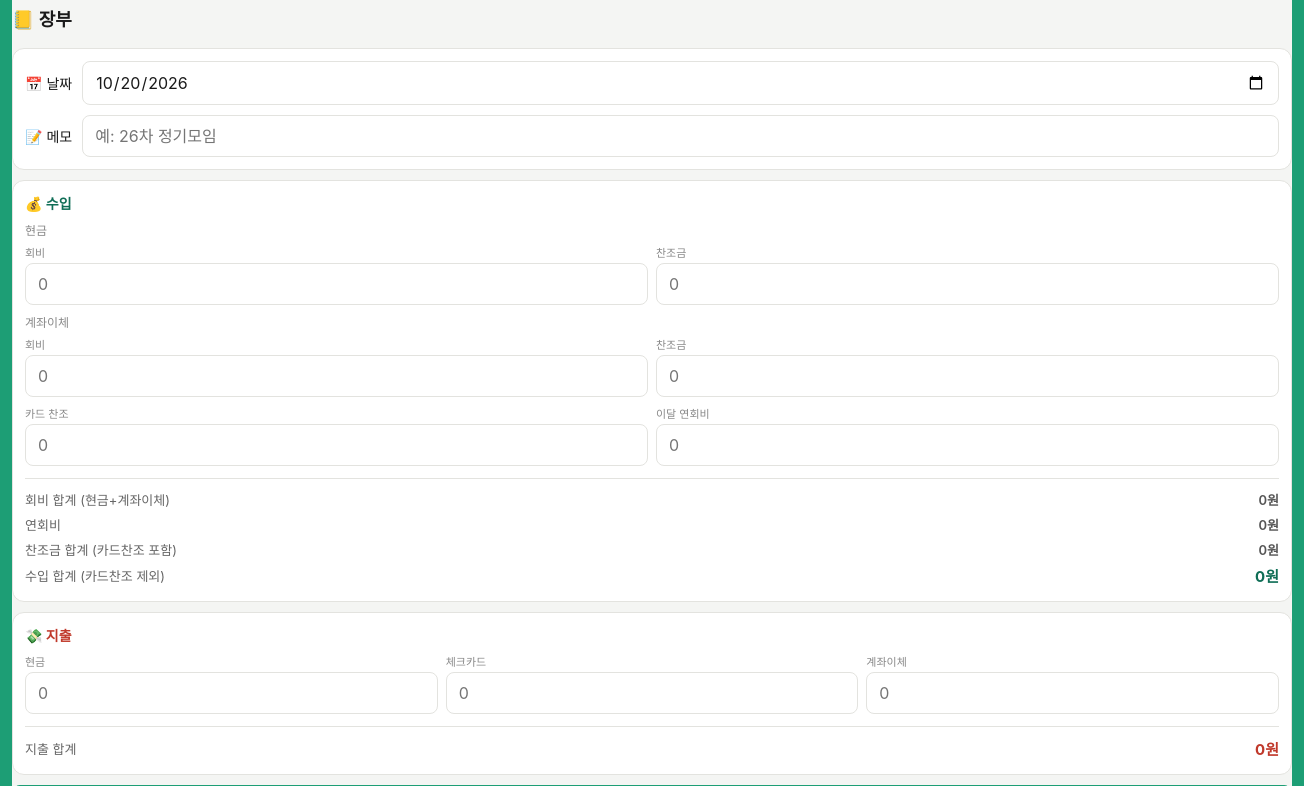
it: LedgerTab — 금액 입력칸 천단위 콤마 표시 › 현금 회비 입력칸에 1234567을 입력하면 1,234,567로 보인다
The width and height of the screenshot is (1304, 786).
Type "1234567" into the field named "회비".
click(336, 284); type("1234567")  # box top-left (25, 263), bottom-right (648, 305)
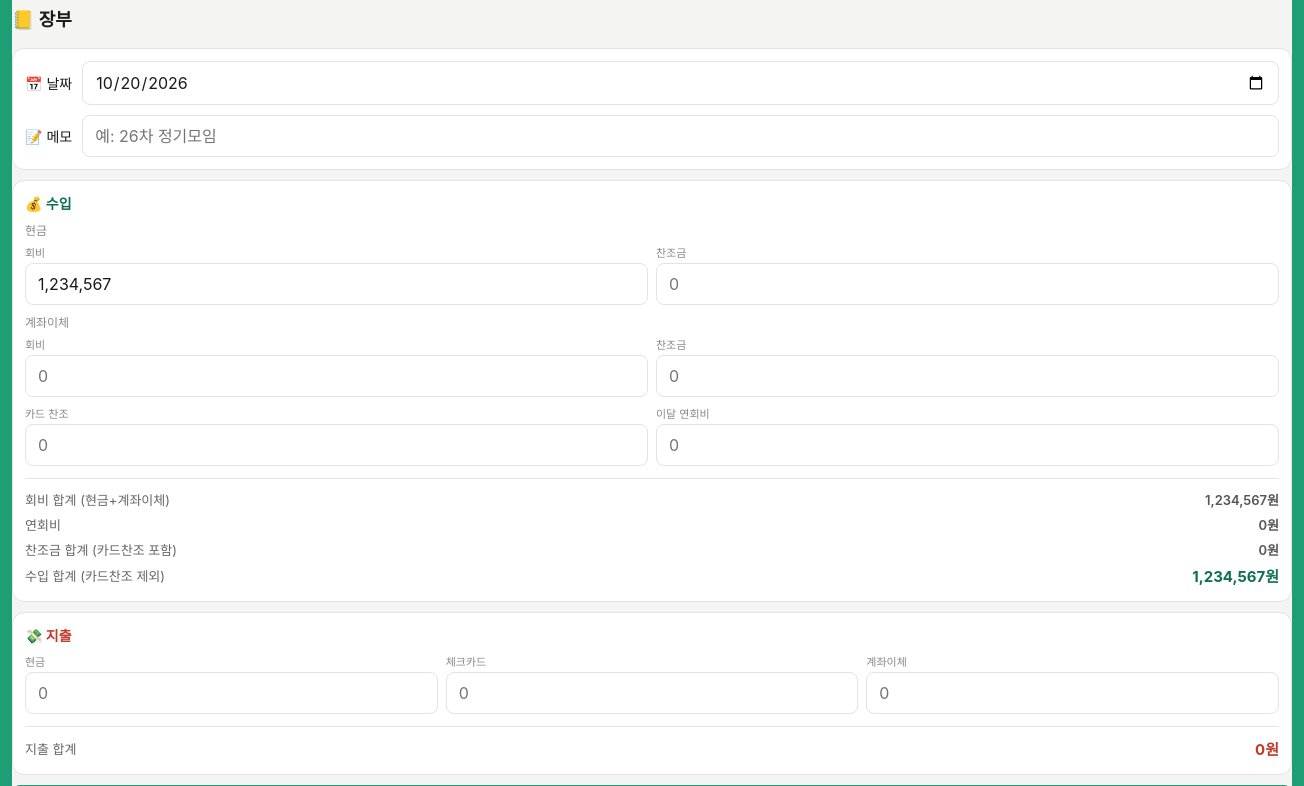
Check: the field named "회비" holds "1,234,567", box top-left (25, 263), bottom-right (648, 305)
